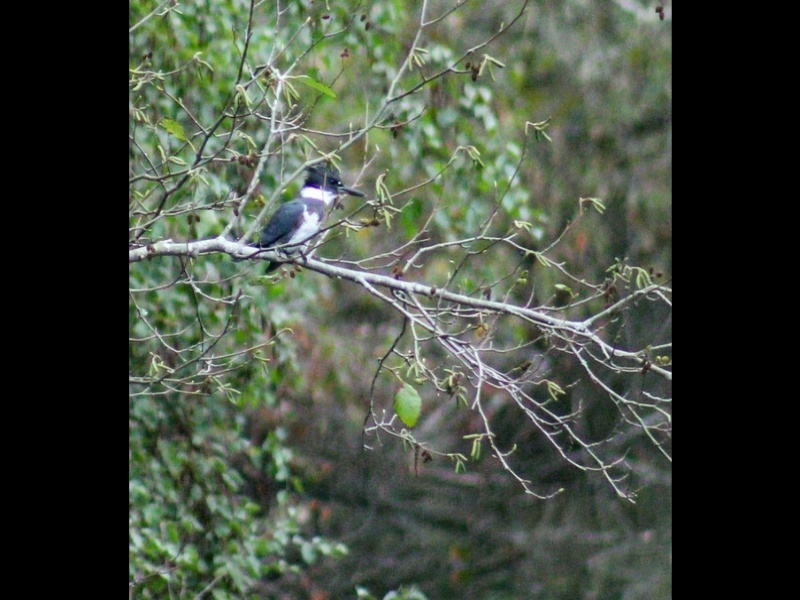kingfisher: (249, 159, 366, 275)
